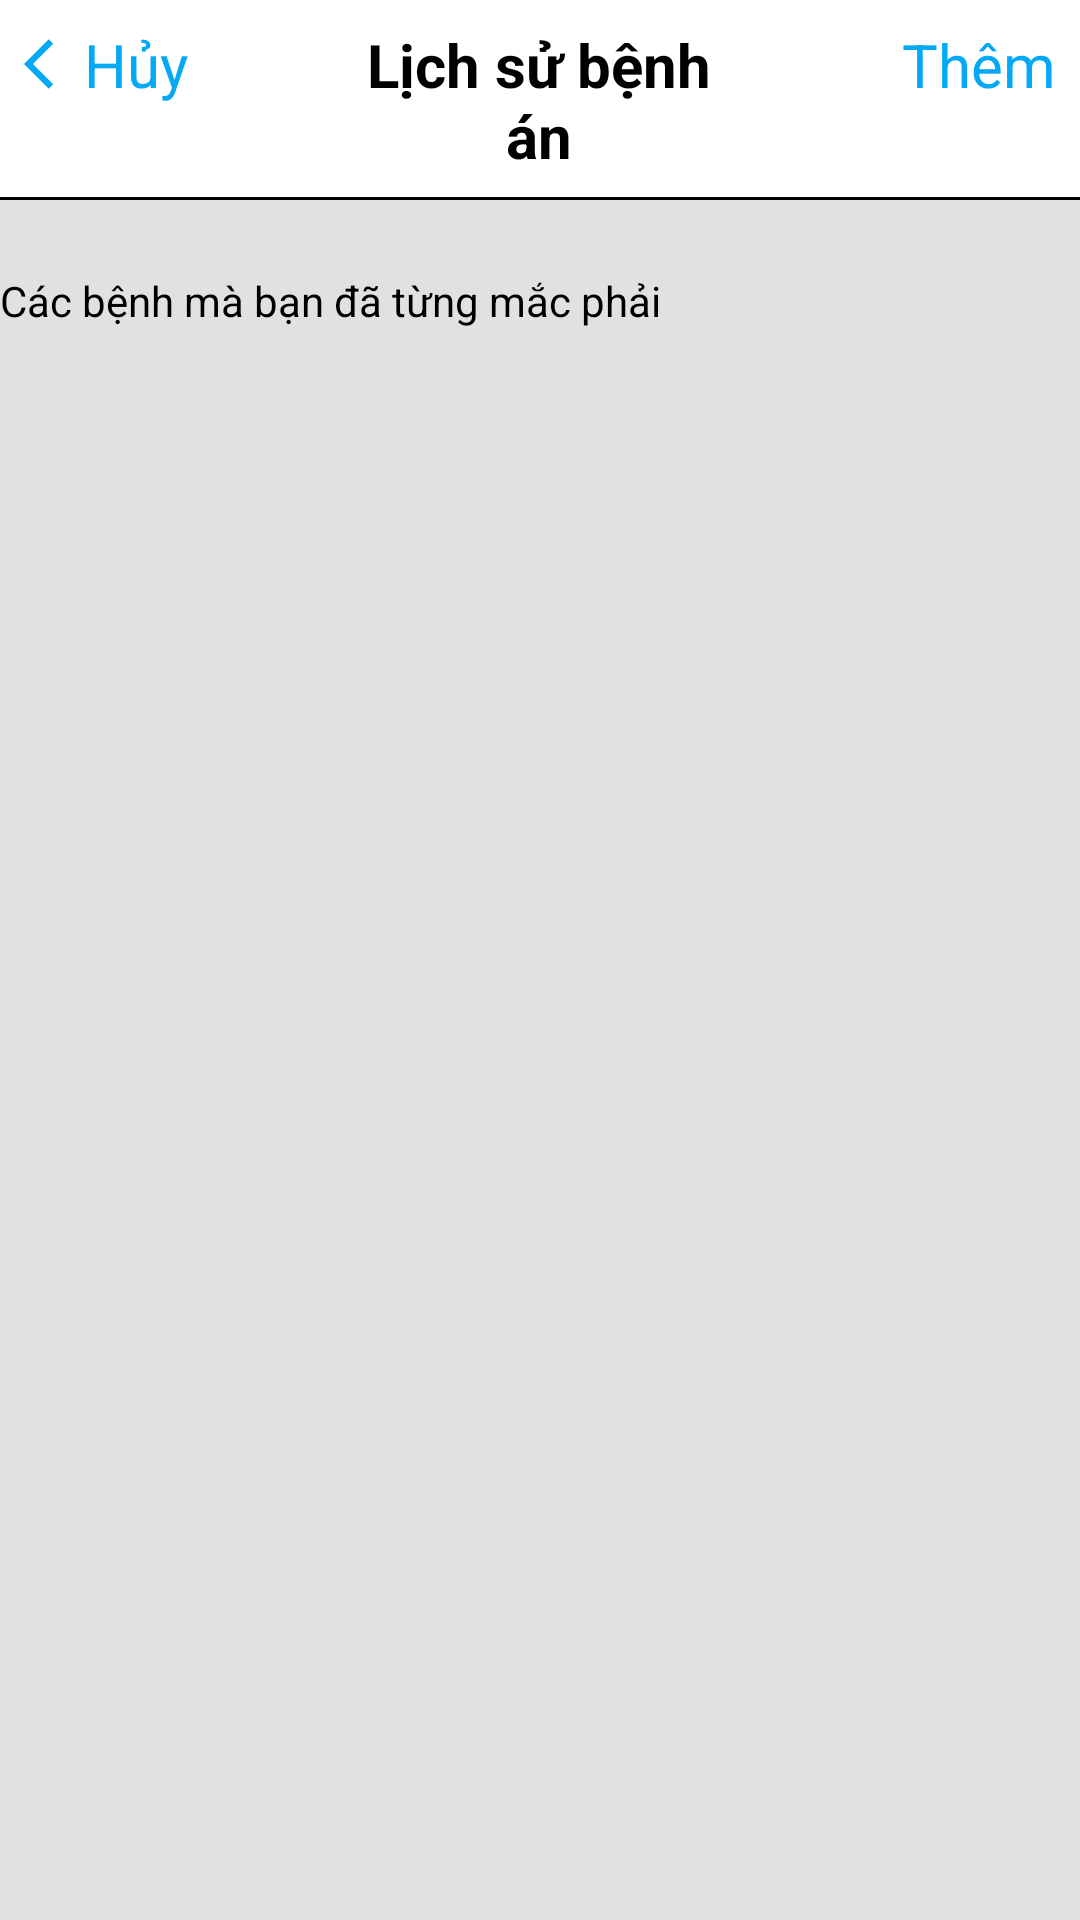

Icon bounding boxes for this 1080 × 1920 phone screenshot, format (x1, y1, x2, y2):
arrow back: (24, 39, 53, 89)
